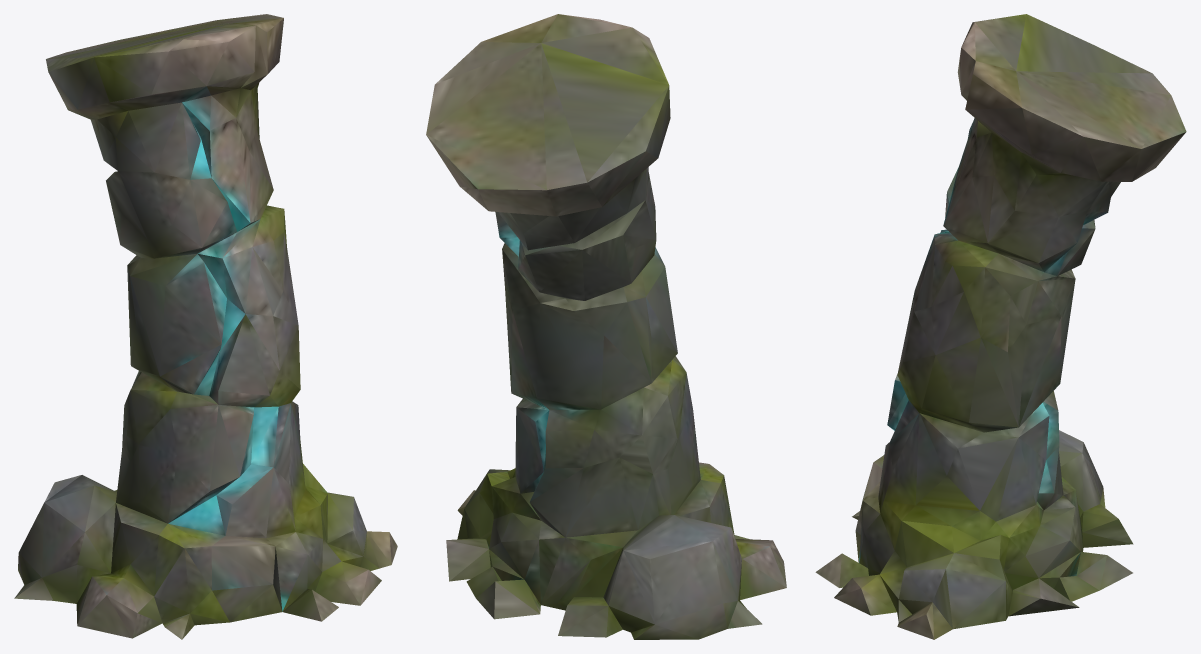
File: columna_agrietada_600.glb
3 views of the same model, side by side, from view 1: azimuth 30°, elevation 25°; view 2: azimuth 150°, elevation 25°; view 3: azimuth 270°, elevation 25° (orthographic). The views are drawn at different scales.
Visible parts, largest first — view 1: columna_agrietada_malla; view 2: columna_agrietada_malla; view 3: columna_agrietada_malla.
Part boxes in pixels (box(x1,y1,x2,y2)): columna_agrietada_malla: box(14, 14, 397, 639); columna_agrietada_malla: box(426, 14, 786, 639); columna_agrietada_malla: box(815, 14, 1186, 639).
Size of the model in its own units: 0.2512 by 0.3778 by 0.2418.
1 material, 1 textured.
